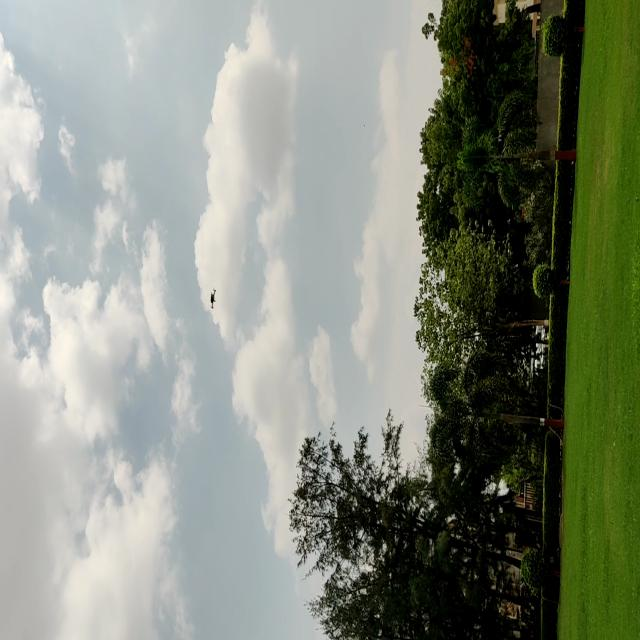drone: (205, 283, 222, 317)
